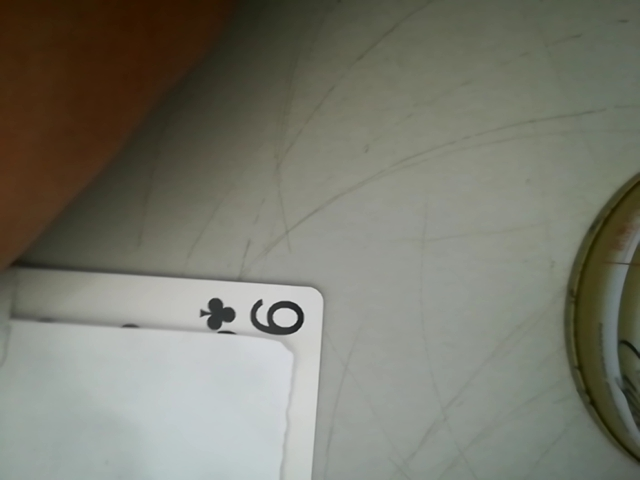mh 9: (189, 286, 326, 343)
